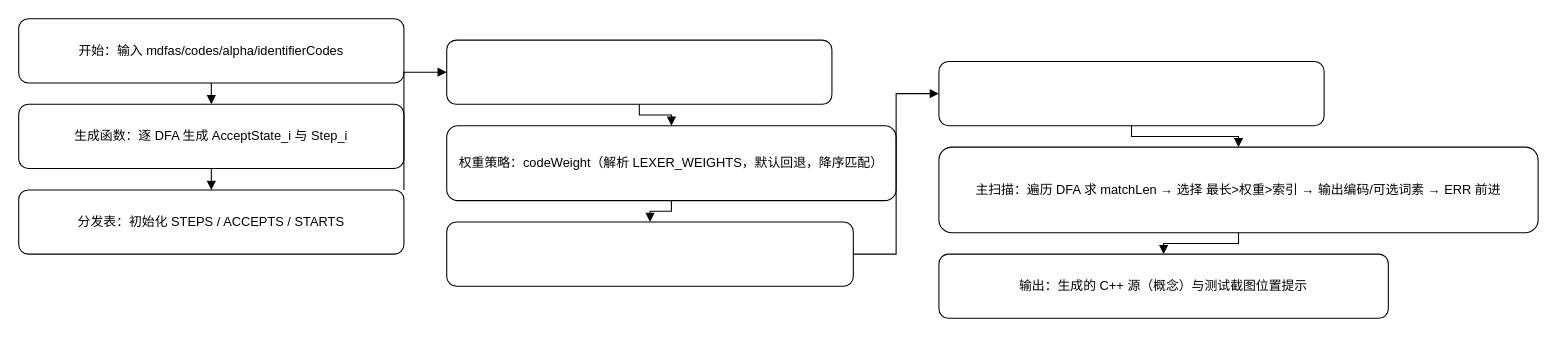
Some shapes in this 1557 by 337 pixel diagram are drawn without their labels. Each missing label, with the centre of its shape:
分类函数：Judgechar（alpha.hasLetter / hasDigit）: (639,71)
最长匹配：matchLen(idx, src, pos)（步进记录 last）: (649,253)
跳过策略：空白/注释/字符串/模板（配置项）: (1131,93)
